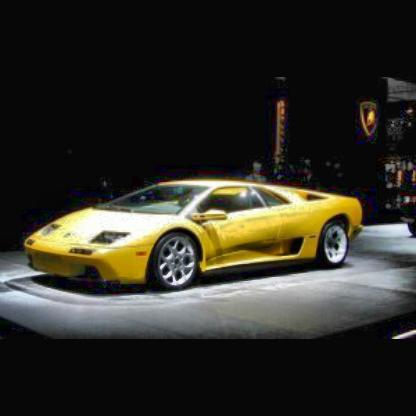Lamborghini Diablo Coupe 2001: (10, 147, 402, 327)
